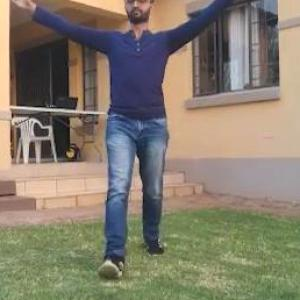takeoff: (0, 0, 241, 280)
